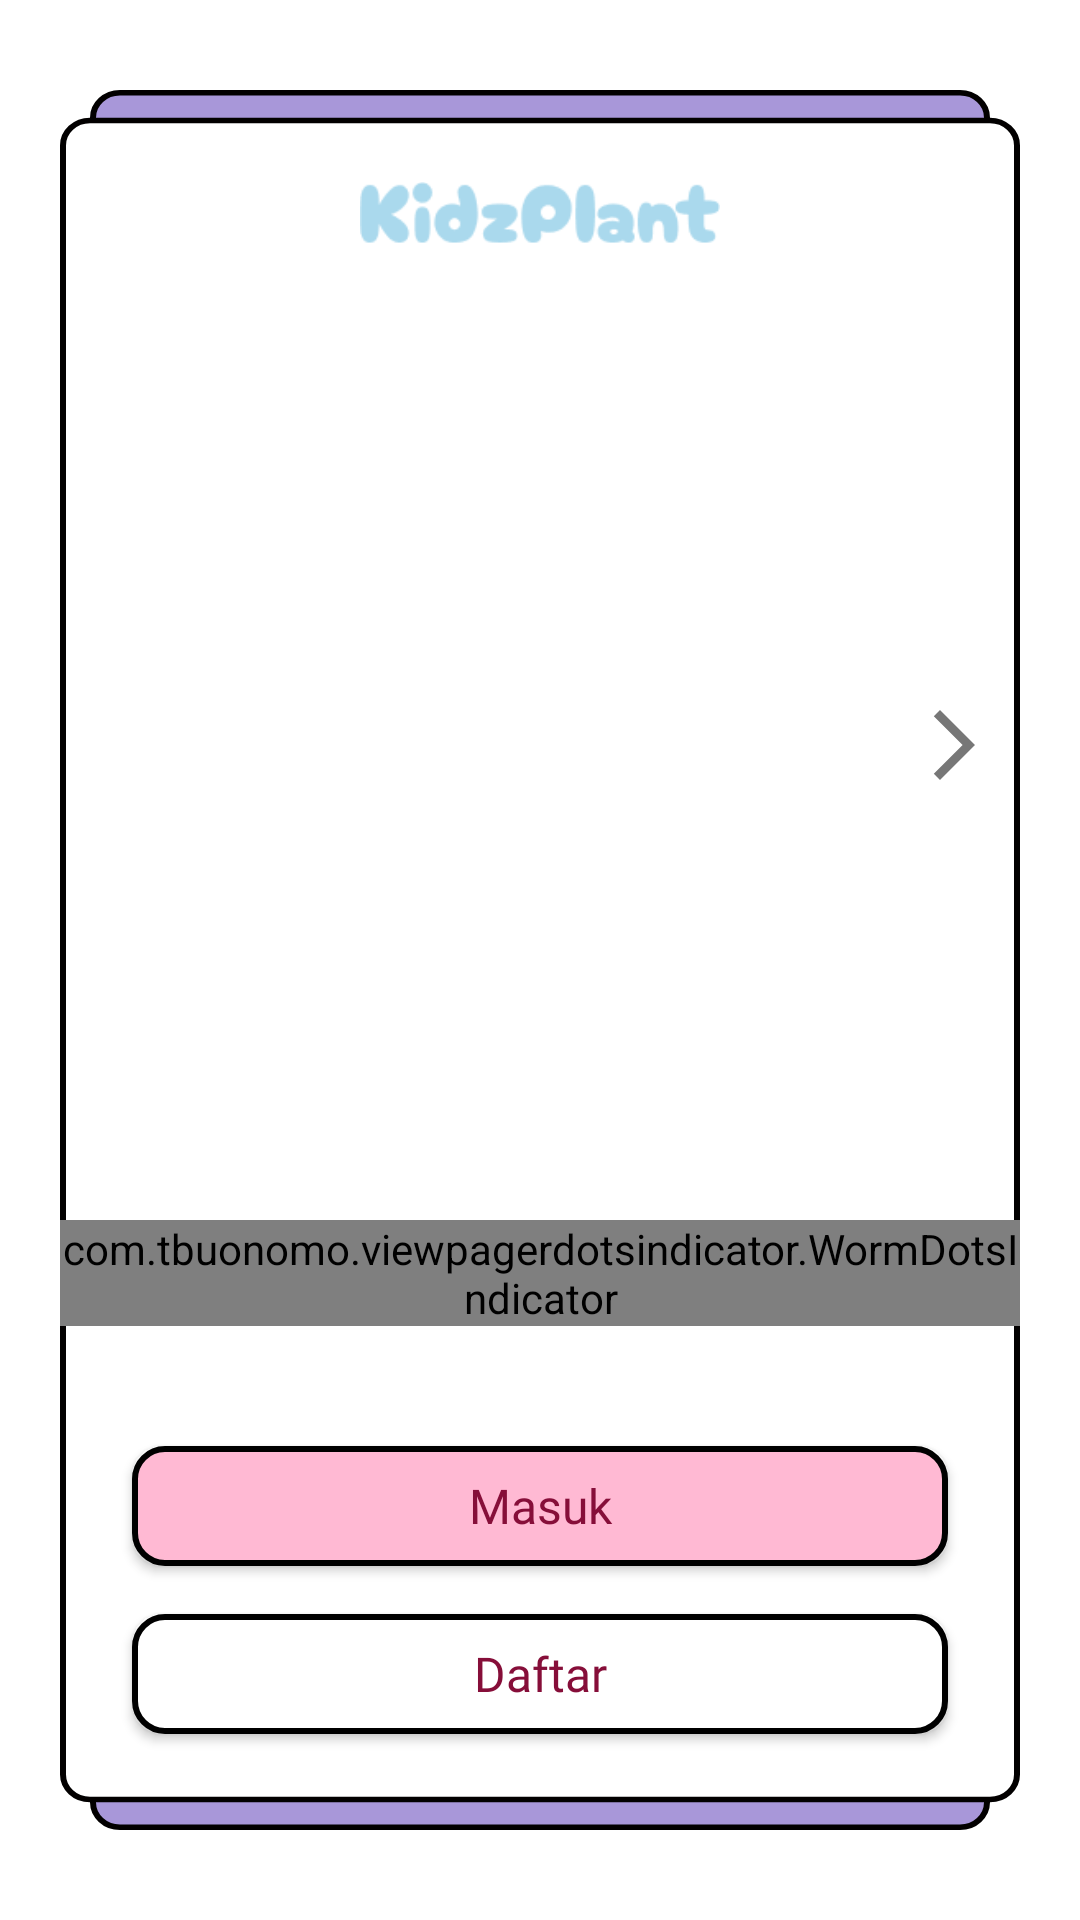

Locate icon controls on the screen. Image size 1080px x 1920px, boxes as [x1,y1,x2,y2].
chevron right: [934,710,975,780]
